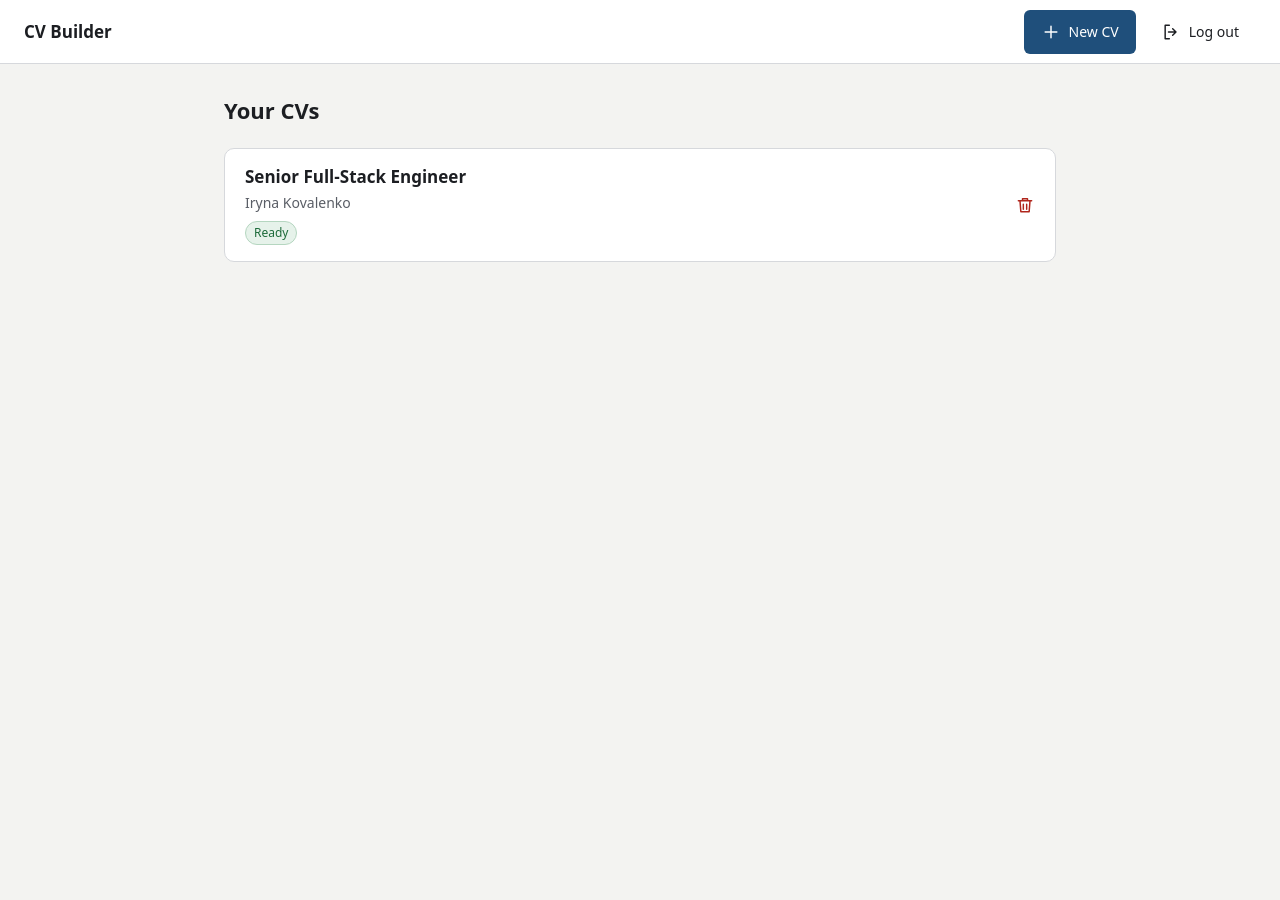
Scenario: CV list › deleting a CV asks first, and Cancel sends nothing
Step 1. Click the button named "Delete Senior Full-Stack Engineer" → (1025, 205), box [1003, 183, 1047, 227]
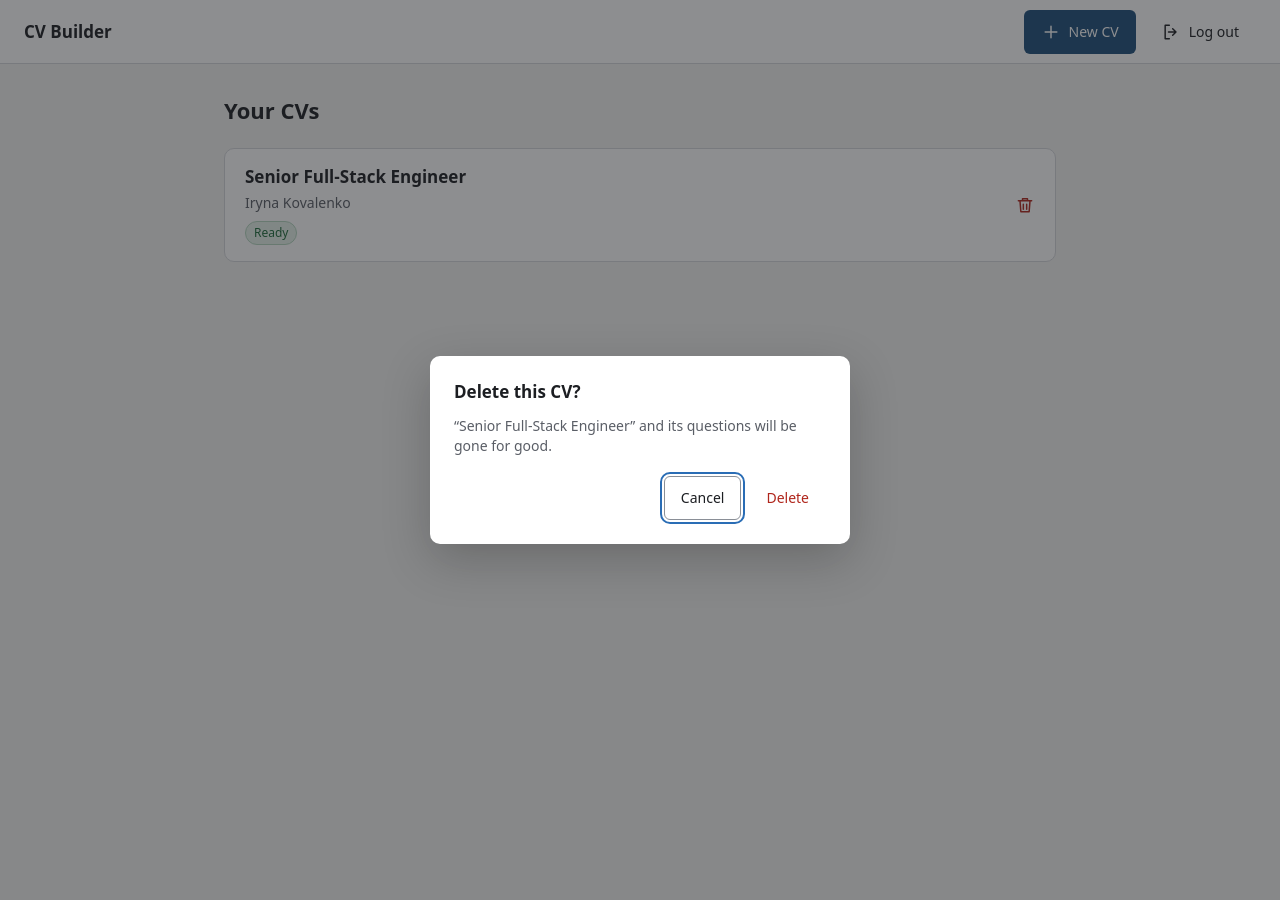
Expected: the dialog shows "Delete this CV?", [454, 380, 581, 403]
Step 2. Click the button "Cancel" → (703, 498), box [664, 476, 741, 520]
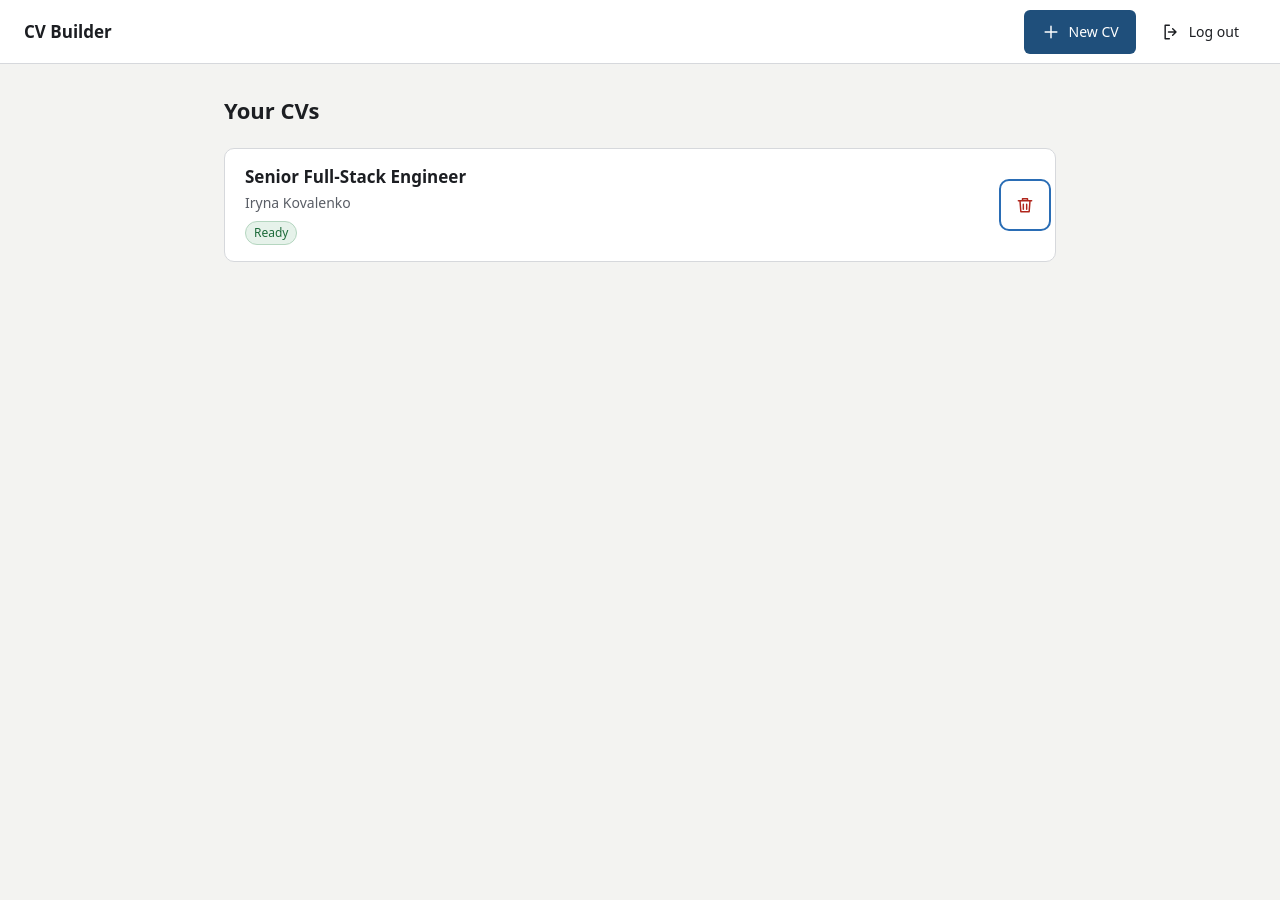
Step 3. Click the button named "Delete Senior Full-Stack Engineer" → (1025, 205), box [1003, 183, 1047, 227]
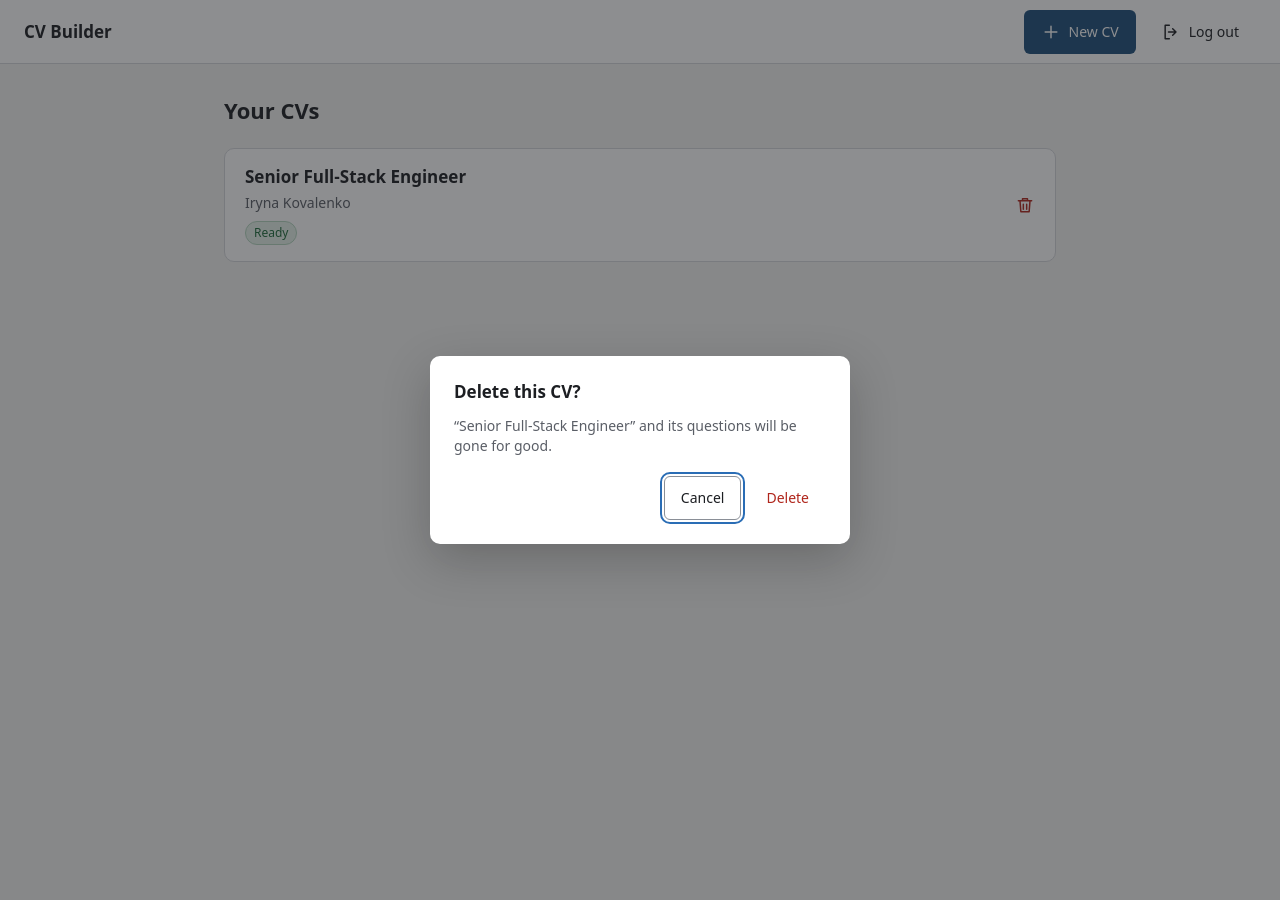
Step 4. Click the button "Delete" → (788, 498), box [749, 476, 826, 520]
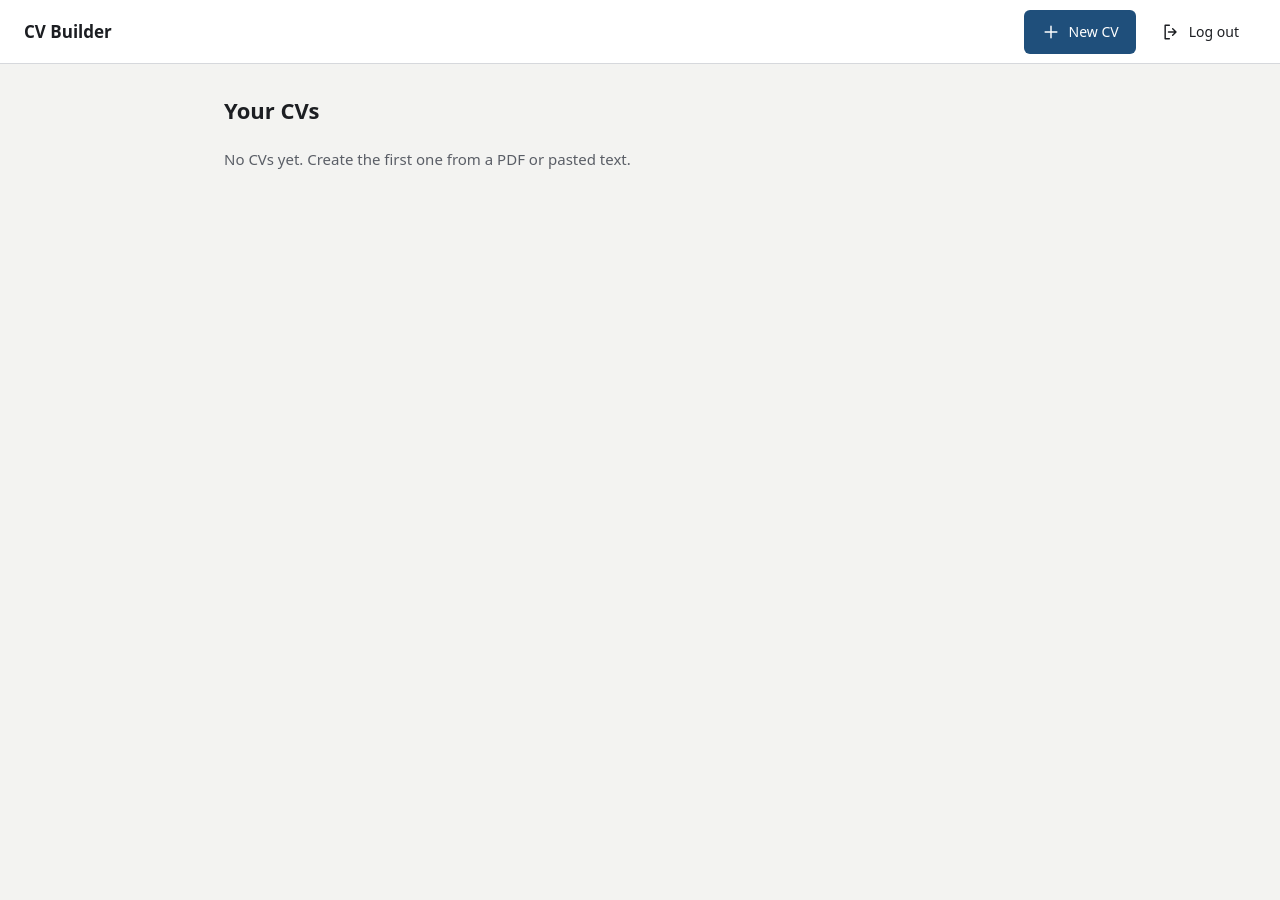
Expected: the link "Senior Full-Stack Engineer" is gone
